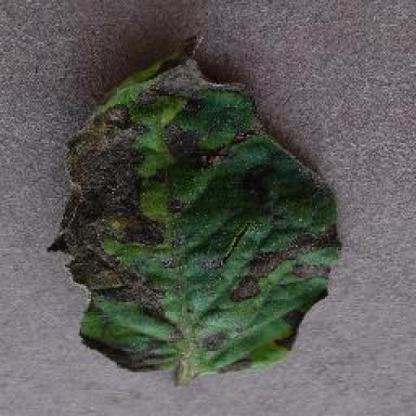Tomato_Blight: (51, 33, 338, 373)
